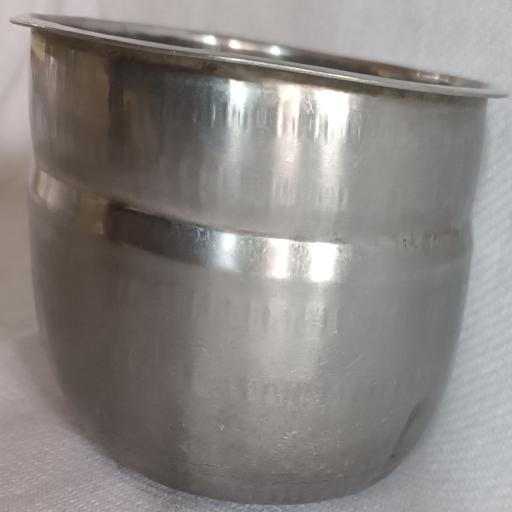vessel: (13, 16, 505, 503)
